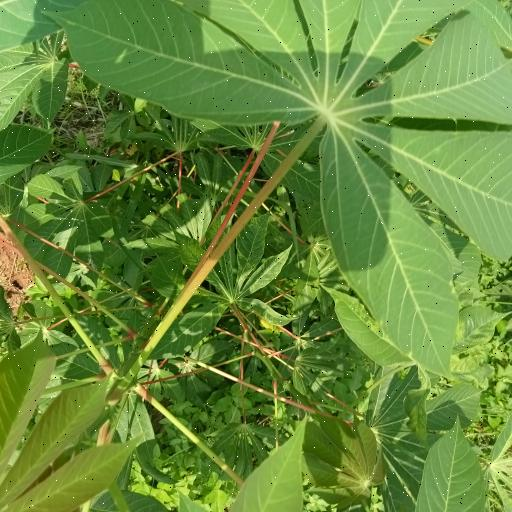Cassava_Healthy: (56, 0, 512, 369)
